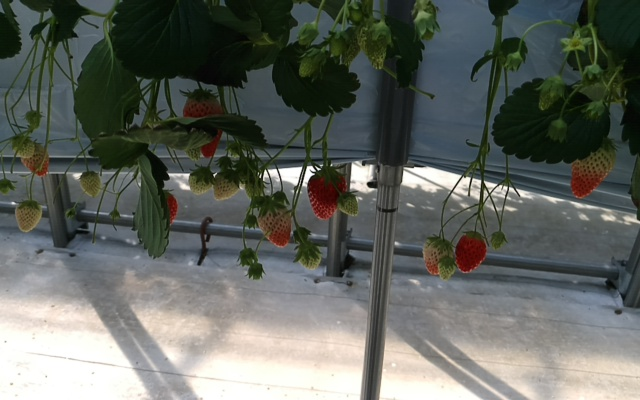GreenStrawberry: (569, 132, 619, 199), (354, 17, 390, 70), (256, 198, 293, 248), (423, 236, 454, 278), (330, 28, 360, 67), (211, 165, 242, 201), (536, 74, 564, 112), (14, 199, 43, 234), (20, 142, 49, 176), (296, 50, 325, 79), (293, 241, 321, 271), (187, 165, 214, 195), (334, 188, 358, 216), (78, 170, 101, 197), (11, 135, 35, 160), (243, 173, 265, 199), (437, 256, 455, 282)
MatureStrawberry: (183, 88, 224, 160), (306, 166, 350, 221), (454, 228, 487, 274), (154, 187, 178, 228)
